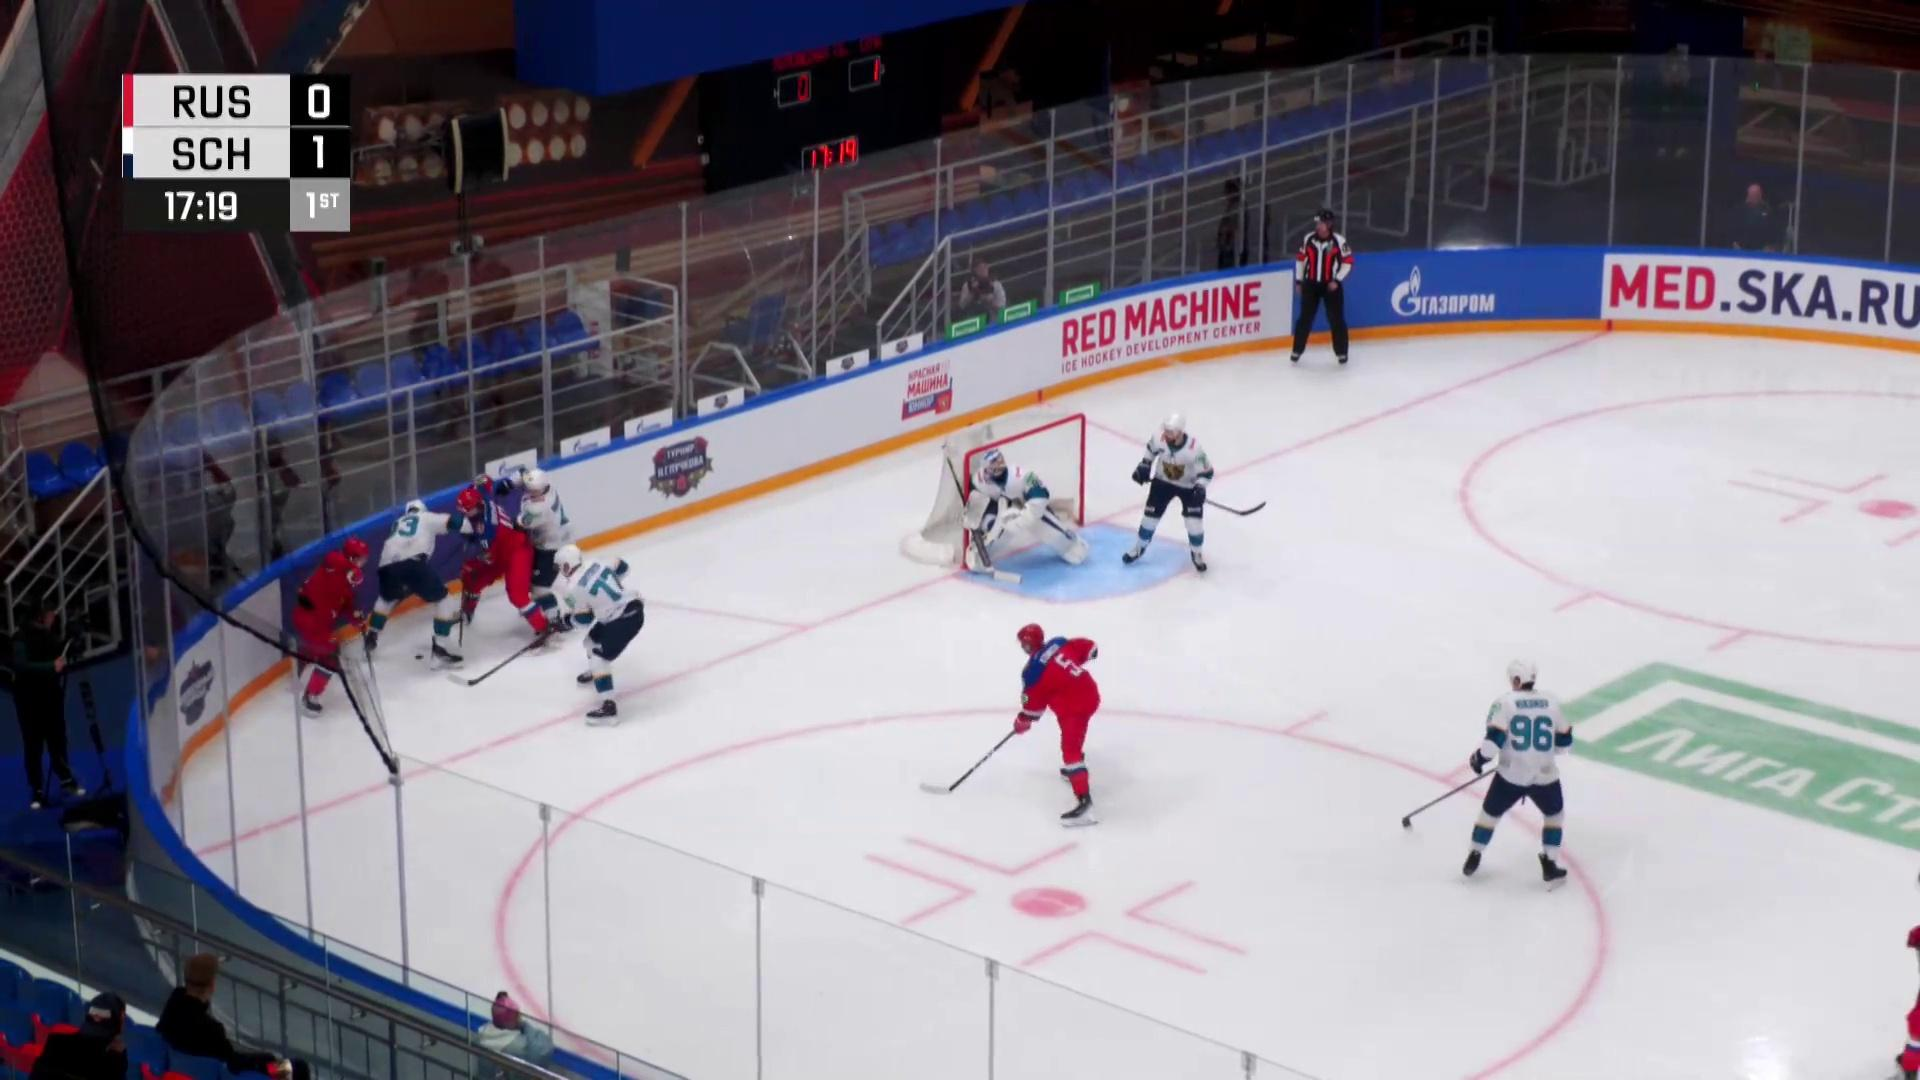ball: (414, 654, 425, 661)
